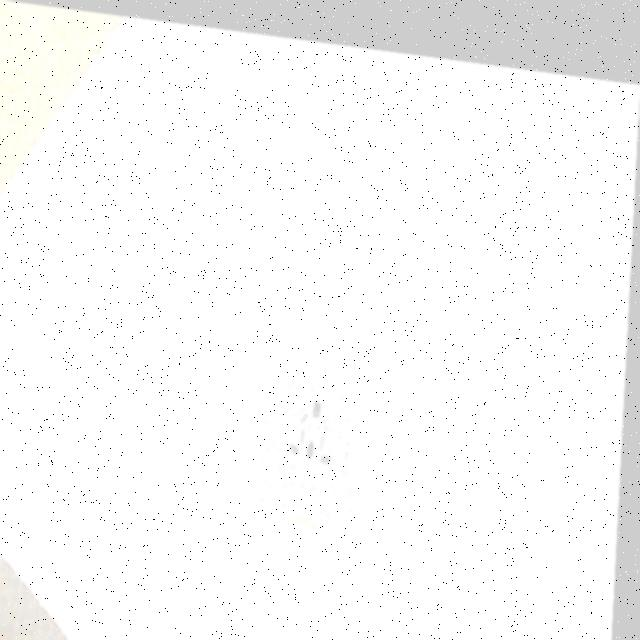adapter: (265, 371, 361, 521)
